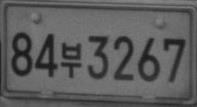2: (113, 34, 134, 81)
3: (86, 34, 109, 80)
4: (33, 33, 58, 78)
6: (137, 37, 160, 81)
7: (163, 37, 186, 83)
8: (9, 31, 33, 76)
부: (60, 42, 82, 78)
